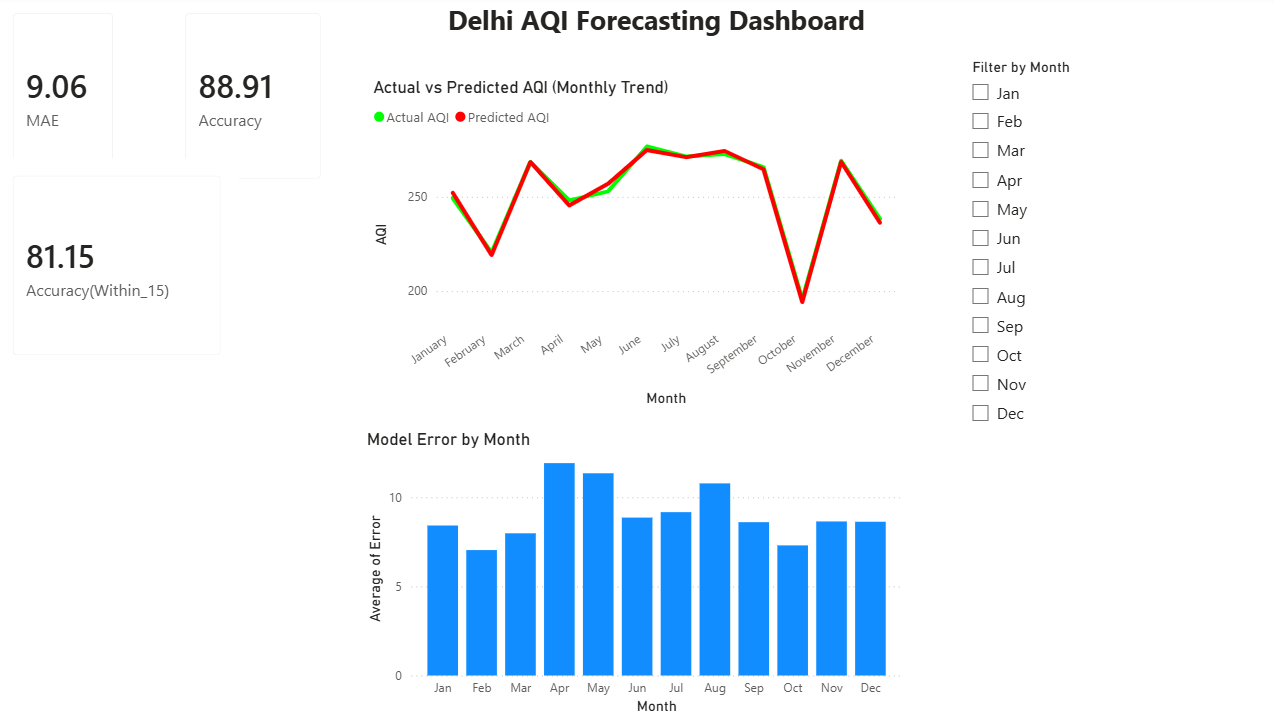

What the dashboard file says about the page in this screenshot:
{"tool":"powerbi","page":{"name":"Page 1","canvas":[1280,720],"ordinal":0},"visuals":[{"type":"lineChart","title":"Actual vs Predicted AQI (Monthly Trend)","fields":{"Y":["Avg(aqi_db aqi_predictions.actual_aqi)","Avg(aqi_db aqi_predictions.predicted_aqi)"],"Category":["aqi_db aqi_predictions.date.Variation.Date Hierarchy.Month"]},"box":[374.4,80.9,529.9,332.1],"z":0},{"type":"textbox","box":[71.3,0,1180.5,57],"z":1000},{"type":"cardVisual","fields":{"Data":["aqi_db aqi_predictions.MAE"]},"box":[3.7,0,134.3,199],"z":2000},{"type":"cardVisual","fields":{"Data":["aqi_db aqi_predictions.Accuracy"]},"box":[175.4,0,169.2,199],"z":3000},{"type":"clusteredColumnChart","title":"Model Error by Month","fields":{"Category":["aqi_db aqi_predictions.Month"],"Y":["Avg(aqi_db aqi_predictions.Error)"]},"box":[368.2,430.4,542.4,289.8],"z":3001},{"type":"slicer","fields":{"Values":["aqi_db aqi_predictions.Month"]},"box":[962.8,57.2,169.2,380.7],"z":3002},{"type":"cardVisual","fields":{"Data":["aqi_db aqi_predictions.Within_10"]},"box":[3.7,161.7,241.3,214],"z":3003}]}

Visuals, with their boxes in screenshot pixels (x1, y1, x2, y2), scaled from the page's 1280x720 canvas onto the 1274x715 screenshot:
"Actual vs Predicted AQI (Monthly Trend)" lineChart: [left=373, top=80, right=900, bottom=410]
textbox: [left=71, top=0, right=1246, bottom=57]
cardVisual - aqi_db aqi_predictions.MAE: [left=4, top=0, right=137, bottom=198]
cardVisual - aqi_db aqi_predictions.Accuracy: [left=175, top=0, right=343, bottom=198]
"Model Error by Month" clusteredColumnChart: [left=366, top=427, right=906, bottom=714]
slicer - aqi_db aqi_predictions.Month: [left=958, top=57, right=1127, bottom=435]
cardVisual - aqi_db aqi_predictions.Within_10: [left=4, top=161, right=244, bottom=373]
